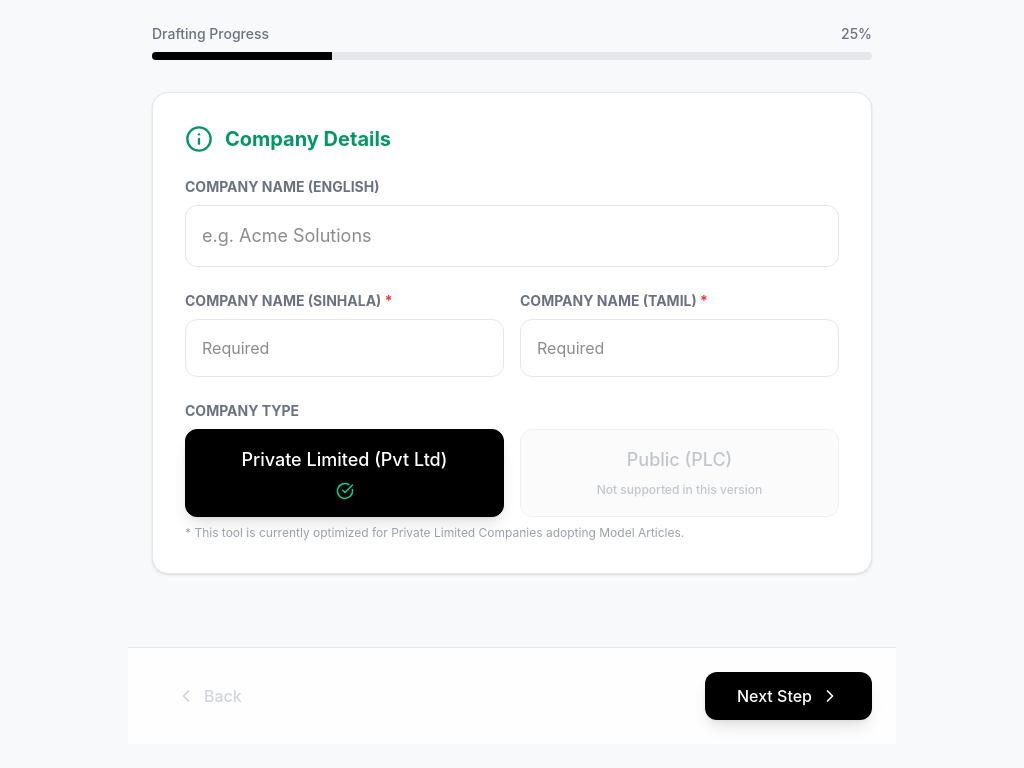
Wizard Component Integration › navigates to the next step when clicking Next
Click Next Step
Click the button "Next Step": (788, 696) x1=705 y1=672 x2=872 y2=720
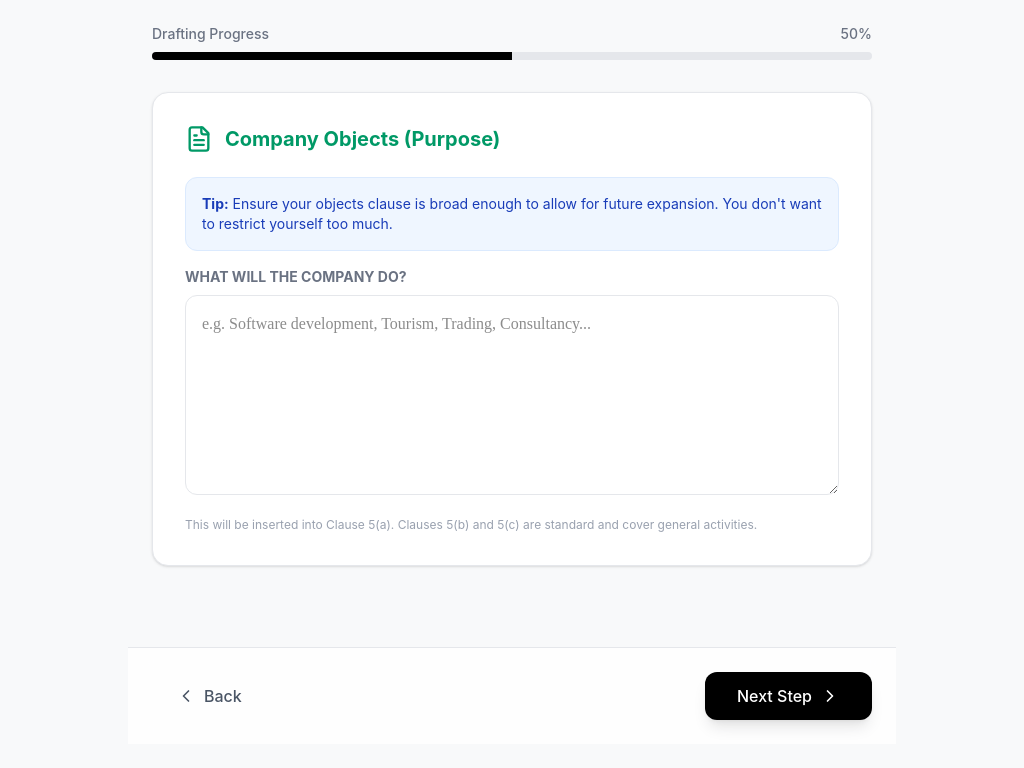
Expected: the heading "Company Objects (Purpose)" is shown, x1=225 y1=125 x2=500 y2=153
